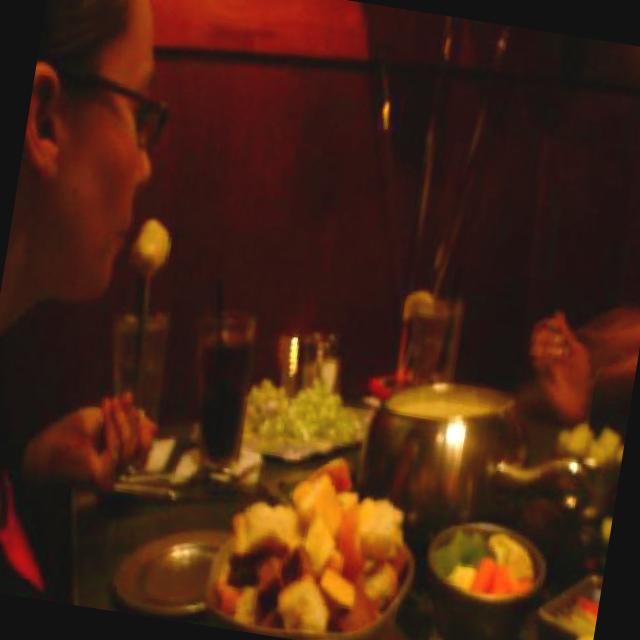Person: (0, 0, 230, 612), (512, 303, 640, 457)
